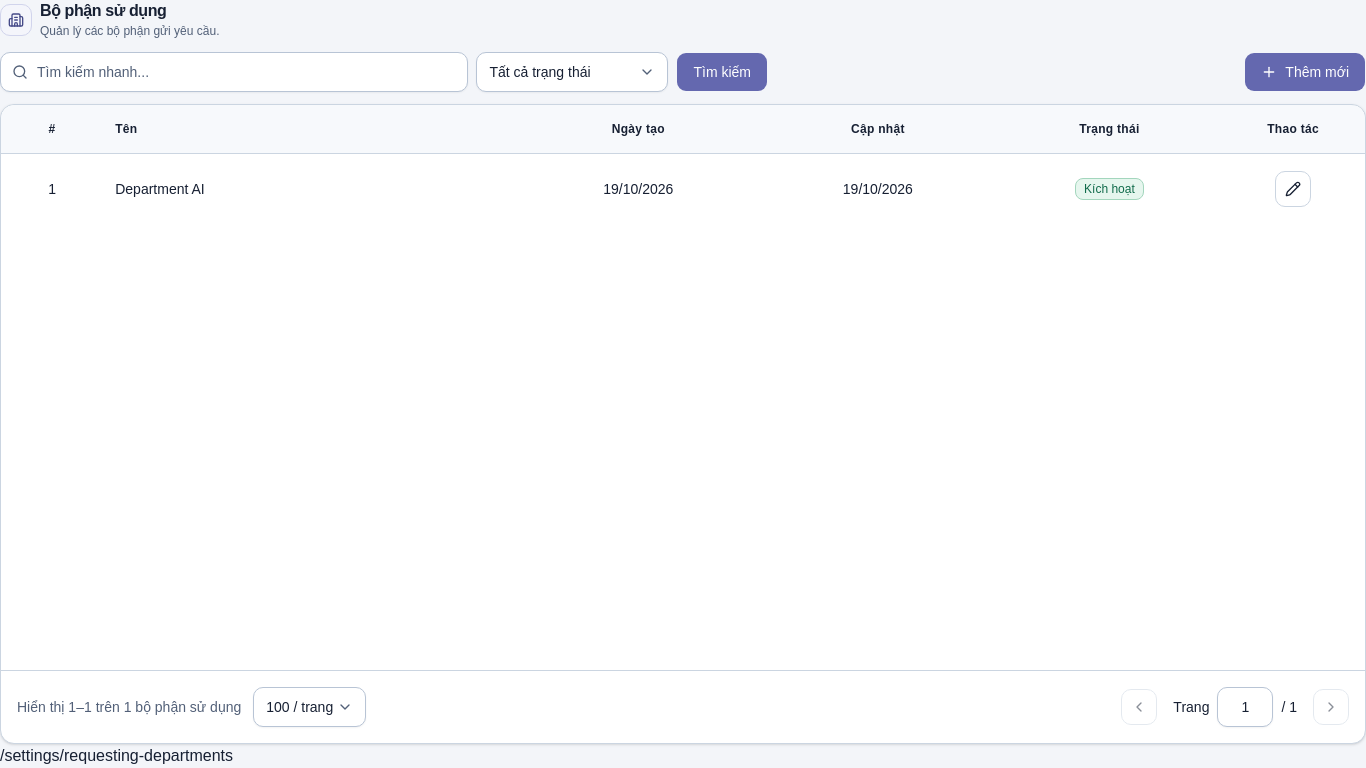
Scenario: creates requesting-departments with the V2 write contract
The image size is (1366, 768).
Expected: the table named "Bảng cấu hình" is shown, 1,105 -> 1365,225
Click the button "Thêm mới" at (1305, 72), box 1244,52 -> 1365,92
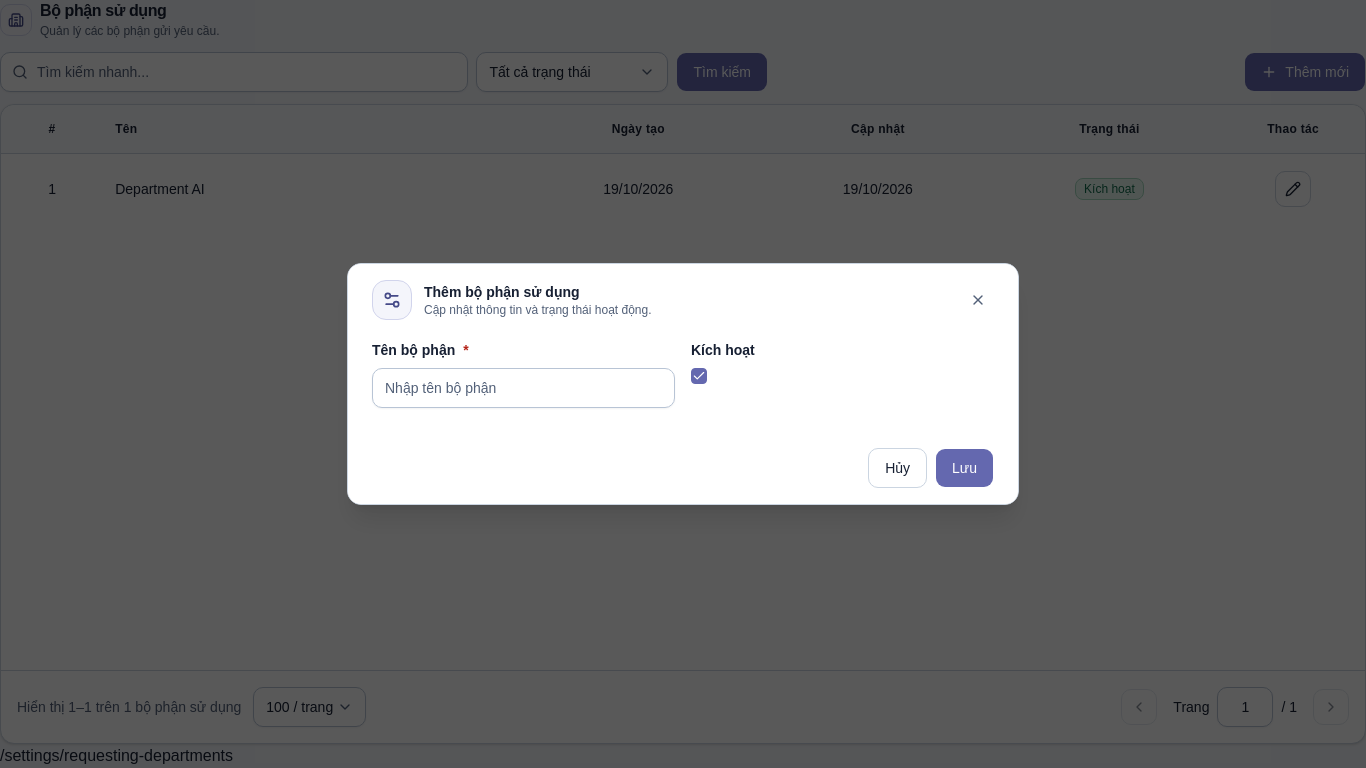
Expected: the button "Lưu" is enabled, 935,448 -> 994,488
Type "Tên mới" into the field labelled "Tên bộ phận *" at (524, 388), box 372,368 -> 675,408
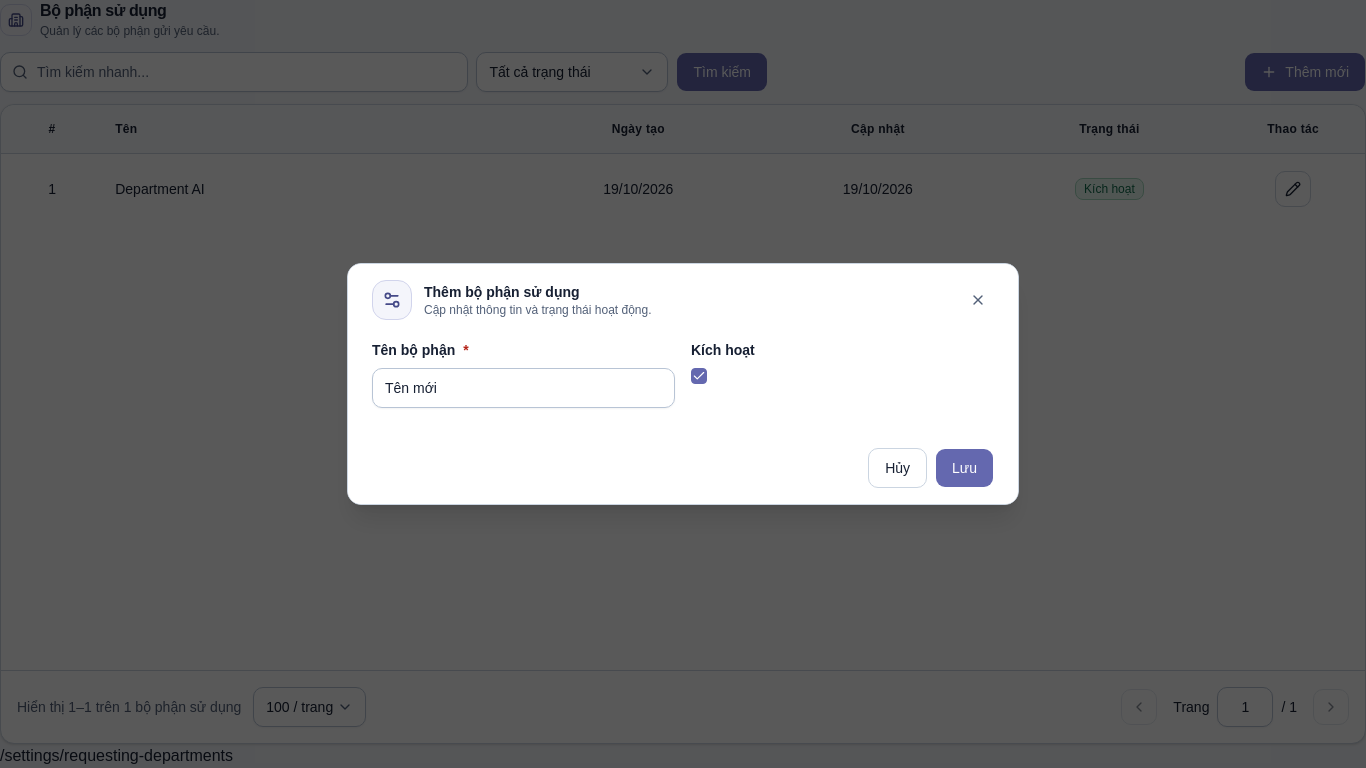
Click the button "Lưu" at (964, 468), box 935,448 -> 994,488
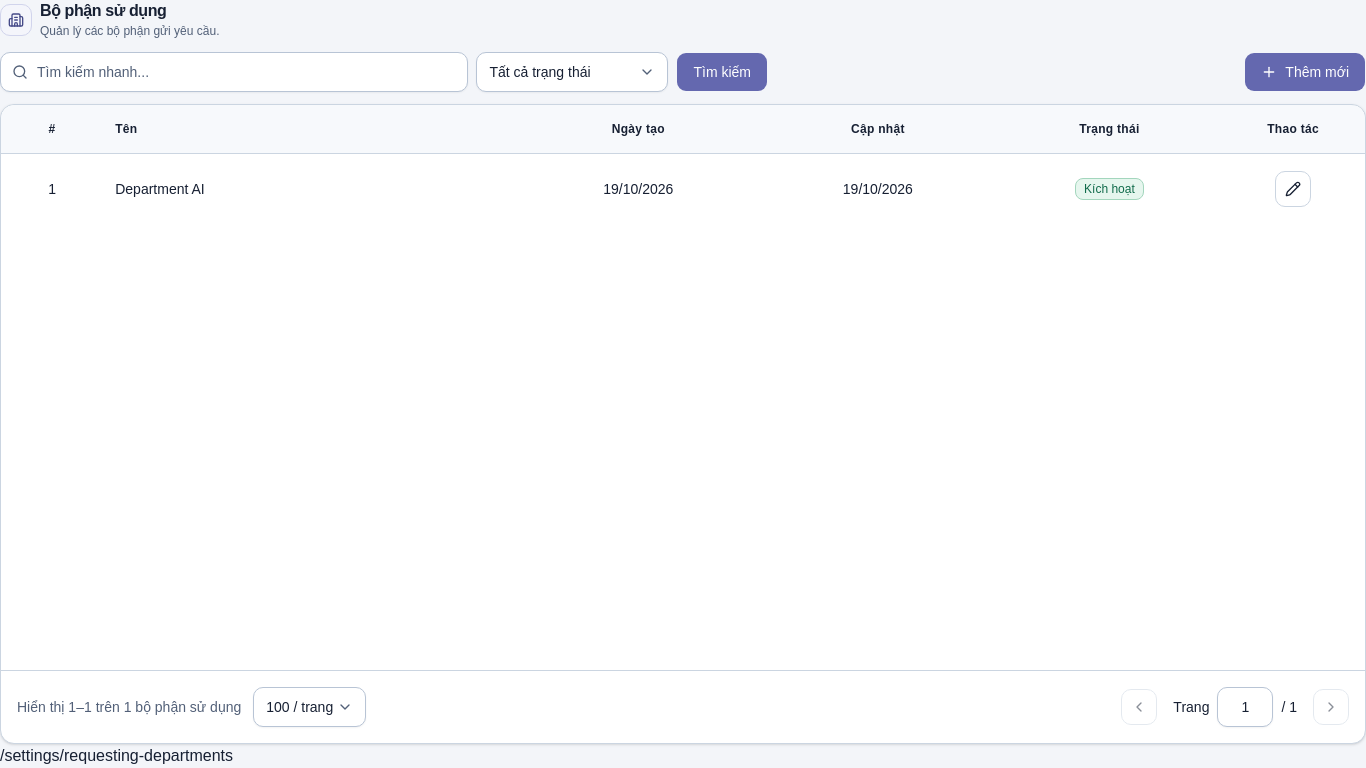
Expected: the dialog is gone
